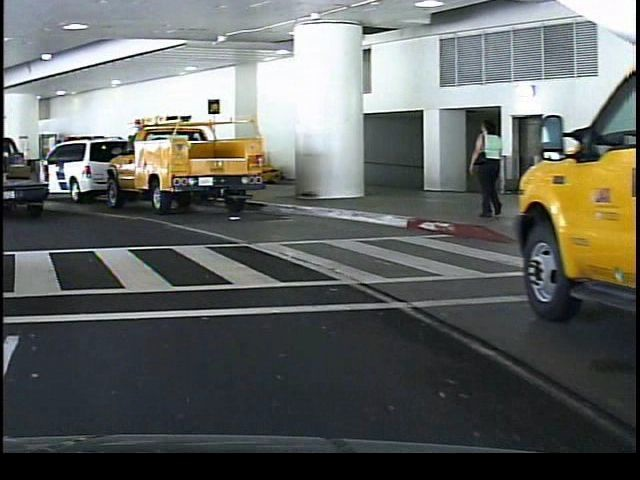person: (464, 115, 502, 225)
